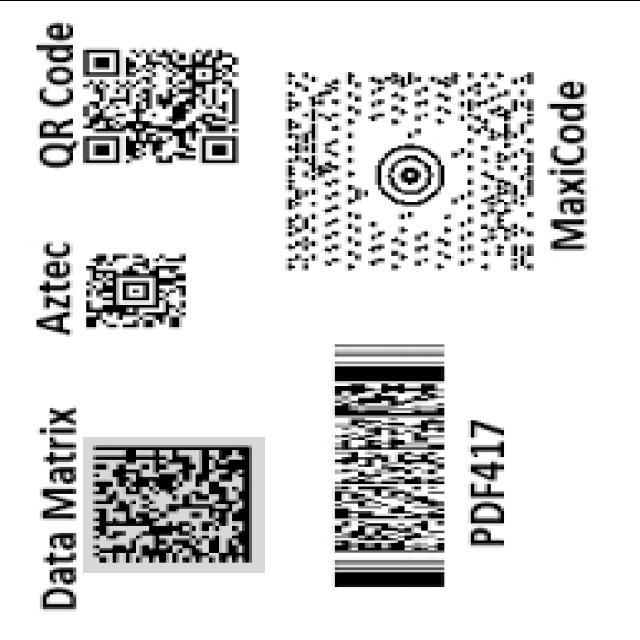Data-Matrix: (83, 436, 265, 572)
